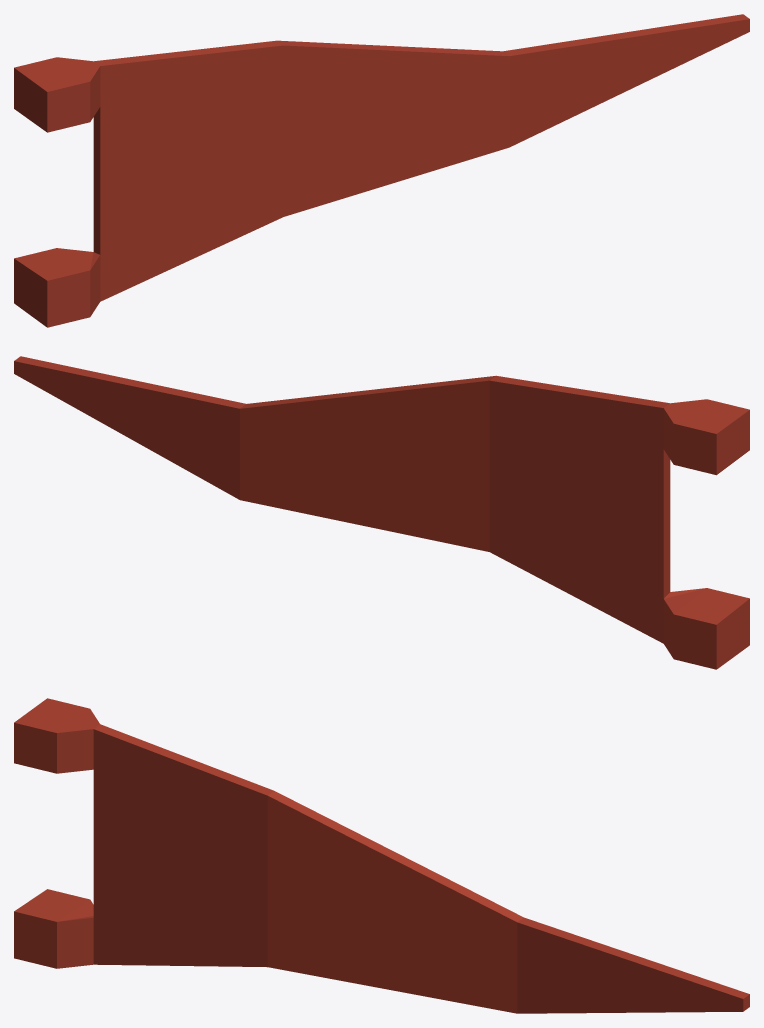
Rendered from SM_Bld_Castle_Flag_01.glb.
3 views of the same model, one above another, from view 1: azimuth 30°, elevation 25°; view 2: azimuth 150°, elevation 25°; view 3: azimuth 330°, elevation 25° (orthographic).
Parts seen in each view (by area): view 1: SM_Bld_Castle_Flag_01; view 2: SM_Bld_Castle_Flag_01; view 3: SM_Bld_Castle_Flag_01.
Boxes of the visible parts, x1,y1,x2,y2 form: SM_Bld_Castle_Flag_01: [14, 14, 749, 327]; SM_Bld_Castle_Flag_01: [14, 356, 749, 669]; SM_Bld_Castle_Flag_01: [14, 698, 749, 1013].
Size of the model in its own units: 1.79 by 0.5643 by 0.1449.
1 material, 1 textured.
